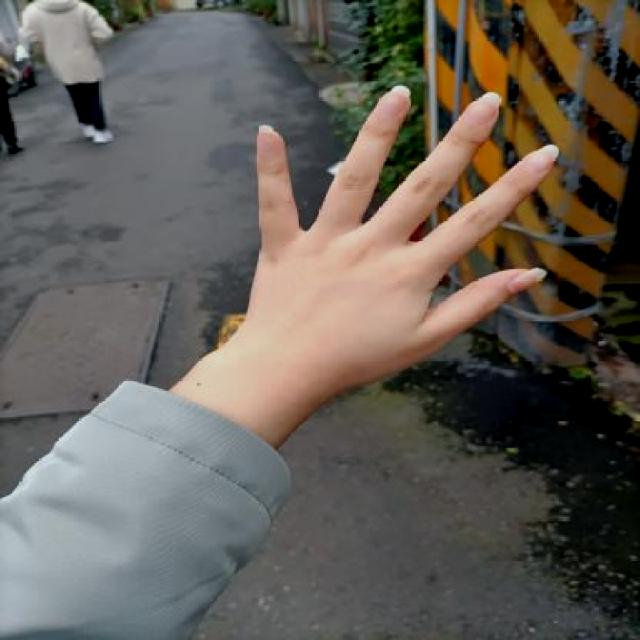no_glove: (197, 72, 571, 420)
